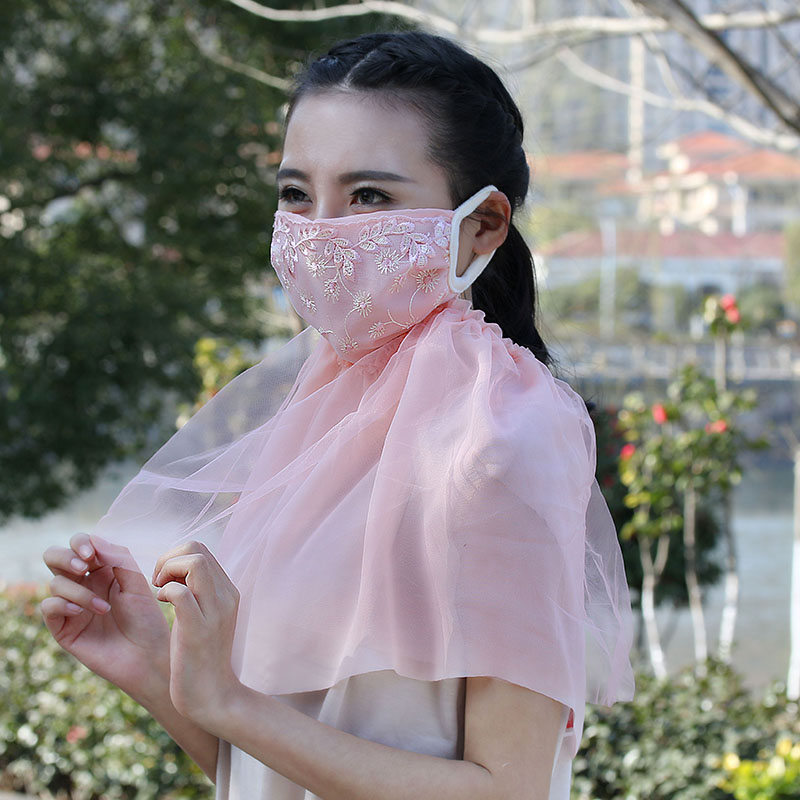face_mask: (271, 88, 454, 338)
